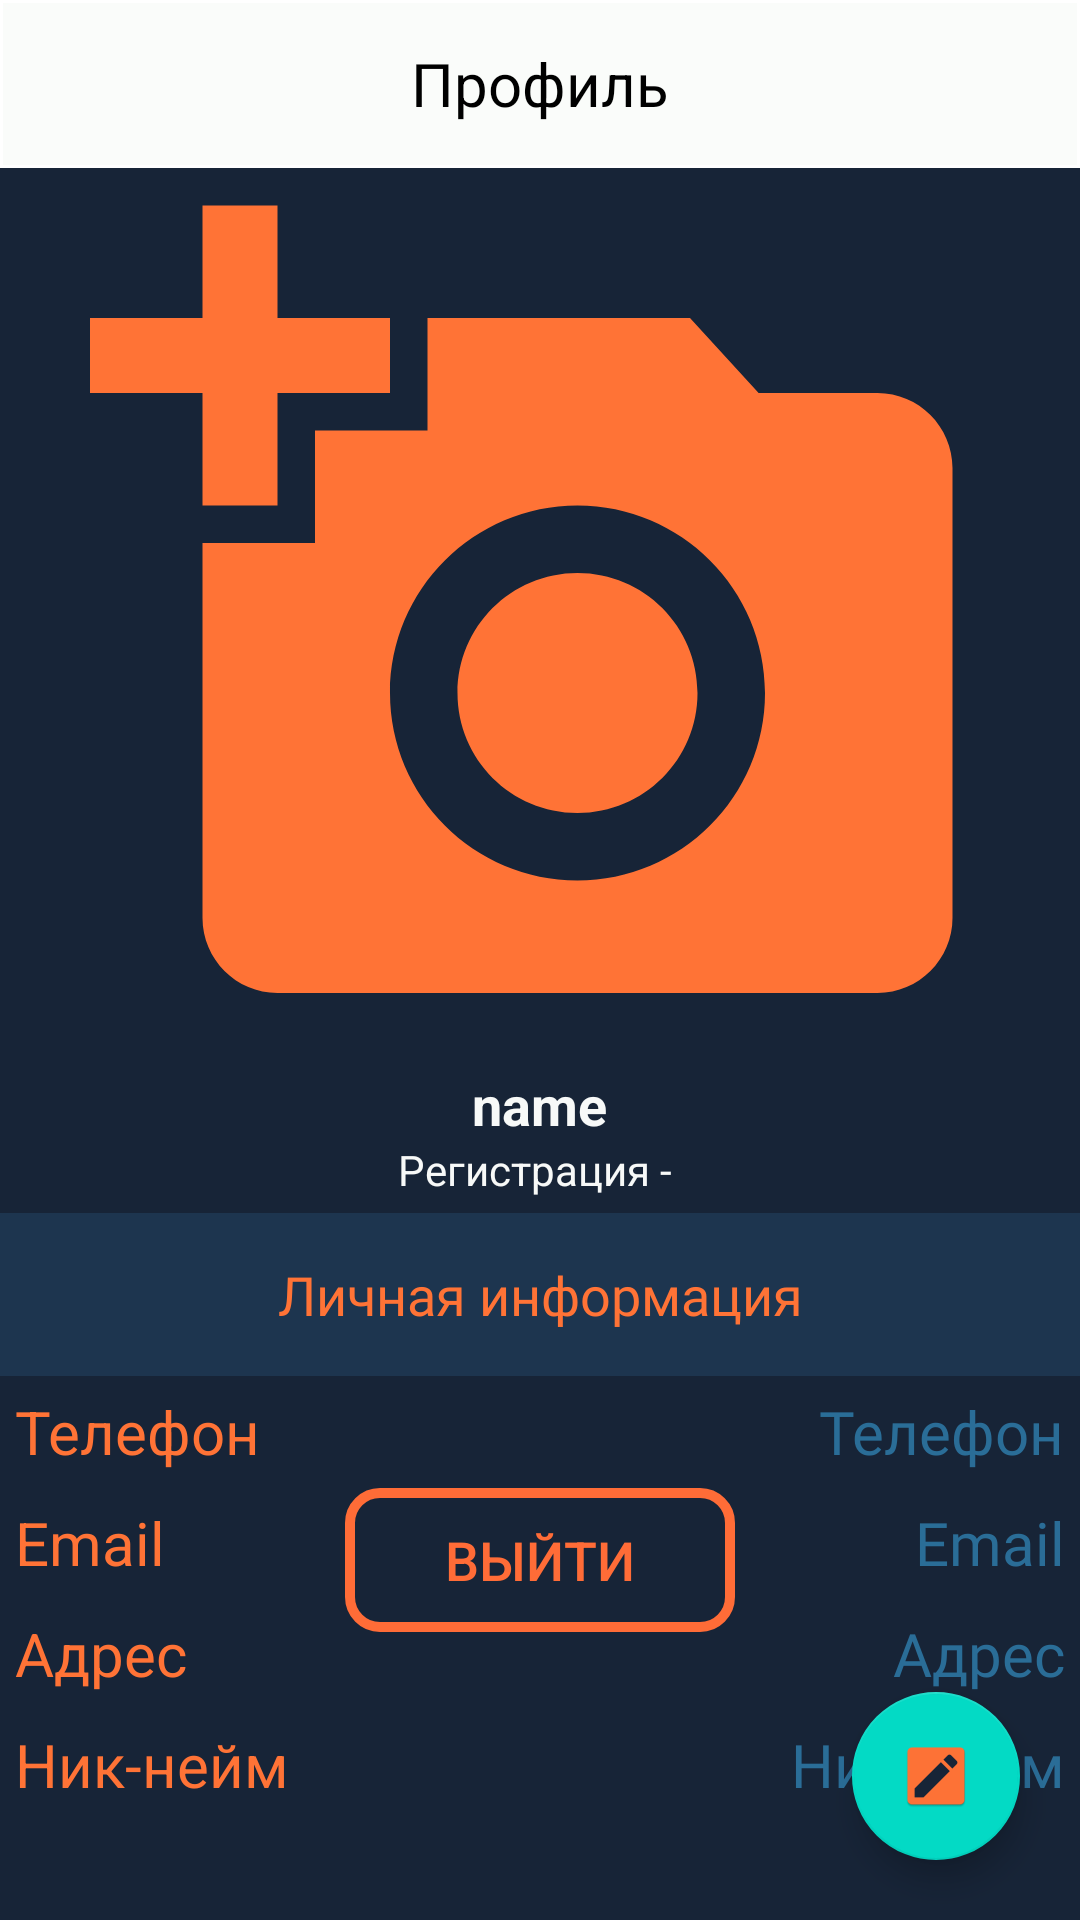

Screen size 1080 x 1920. Icon name, then its center in pixels as (x,y):
edit profile: (936,1776)
